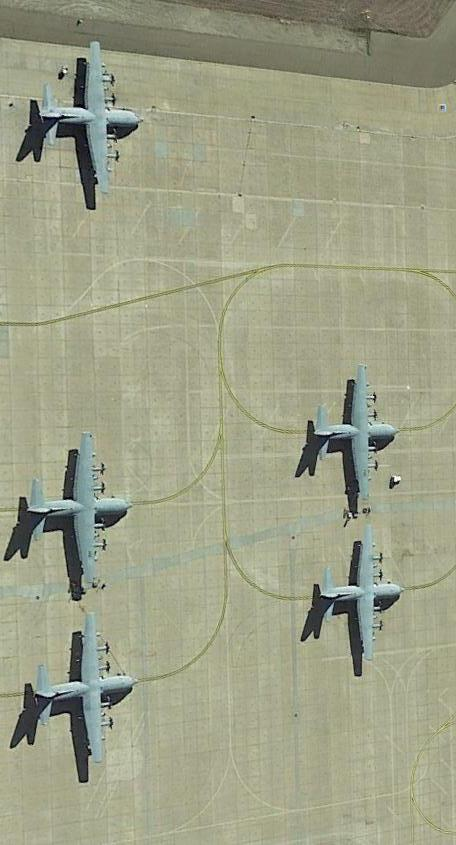C-130: (32, 32, 146, 196), (20, 425, 129, 593), (27, 607, 136, 770), (313, 524, 403, 668), (310, 364, 401, 504)
